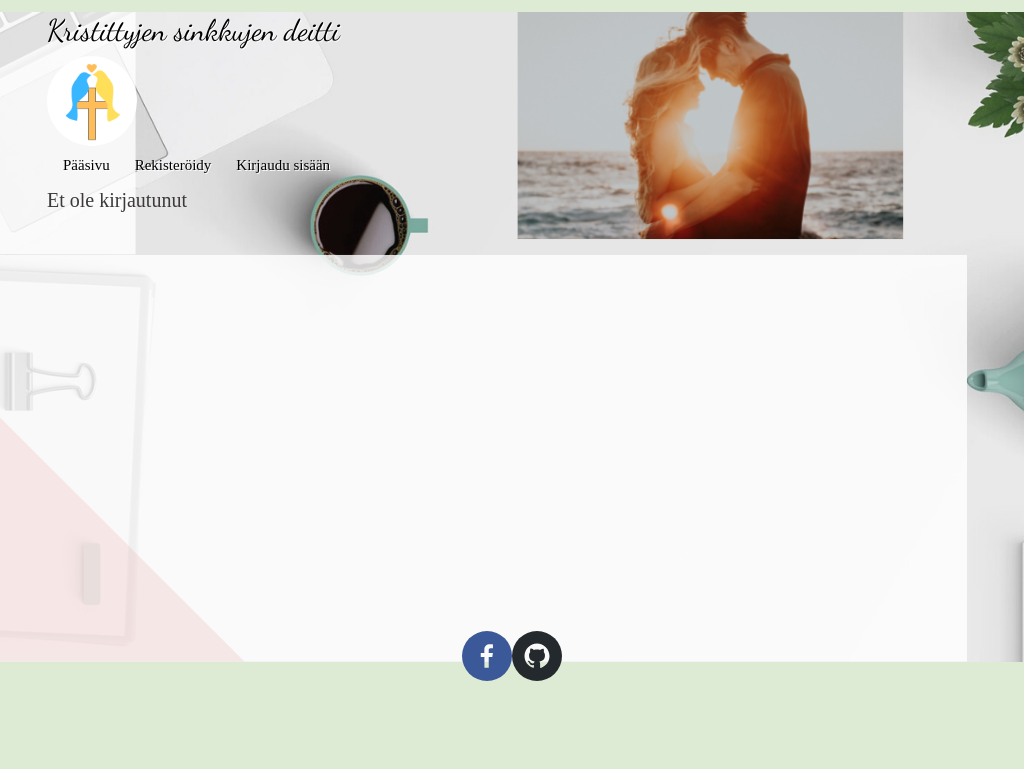
Test: Forms › Registration form is shown
The image size is (1024, 769).
Click the link with id "registerform". click: [174, 165]
box: [135, 157, 212, 173]
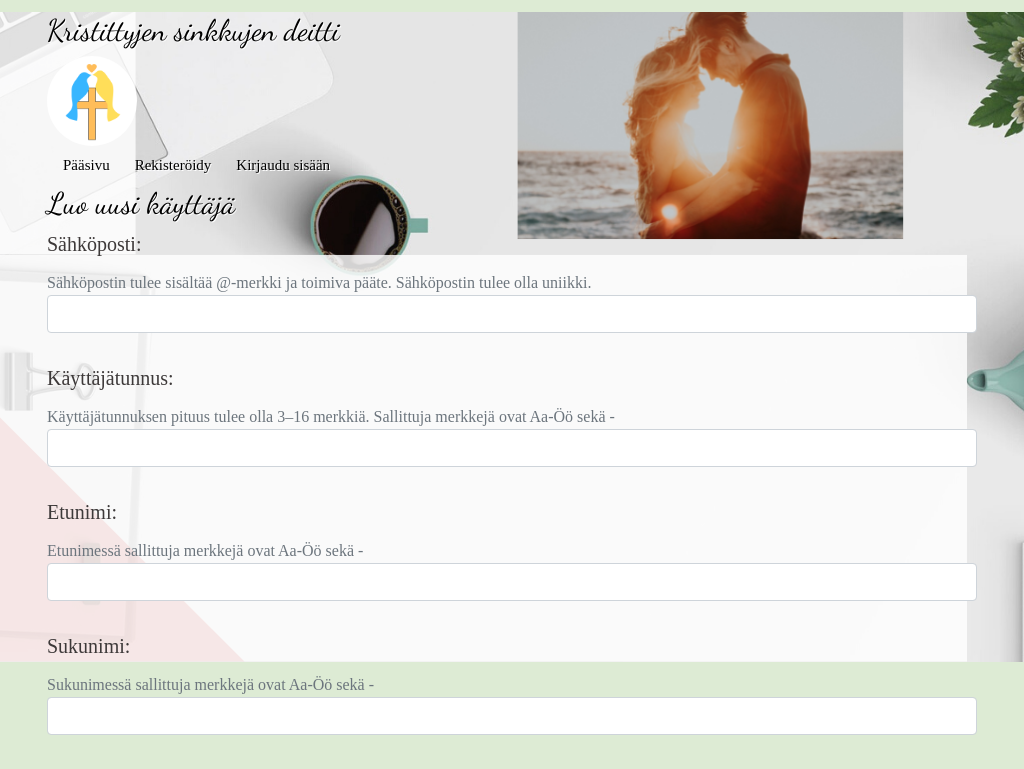
Expected: the heading "Luo uusi käyttäjä" is shown, [47, 184, 235, 220]
Expected: the text "Käyttäjätunnus:" is shown, [47, 362, 174, 392]
Expected: the text "Sähköposti" is shown, [47, 229, 142, 259]
